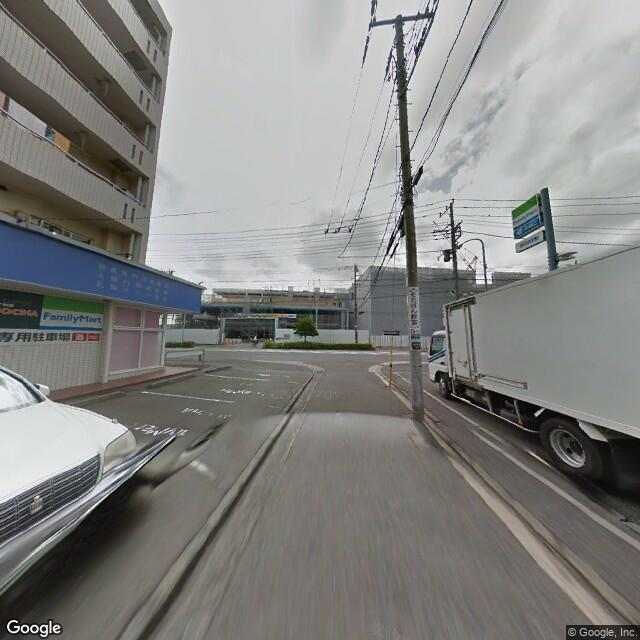family_mart: (39, 295, 103, 333), (511, 191, 543, 231)
